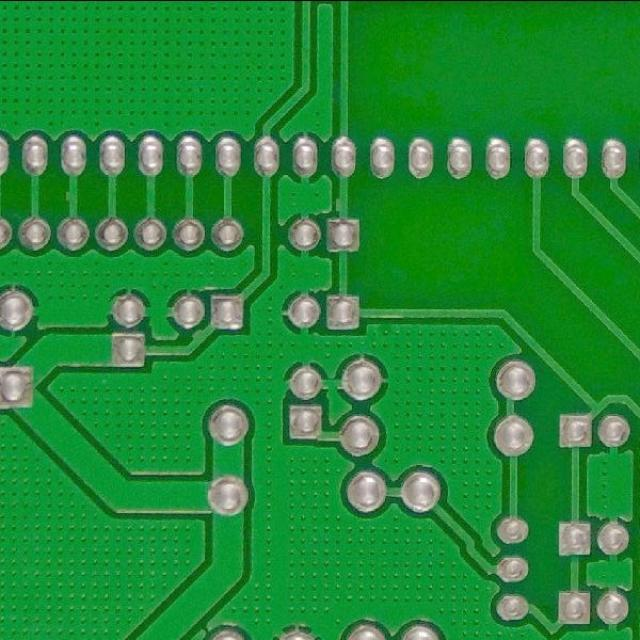Spur: (60, 184, 82, 207), (333, 192, 352, 215), (189, 326, 209, 346)
